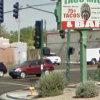Traffic light: (26, 13, 47, 55)
